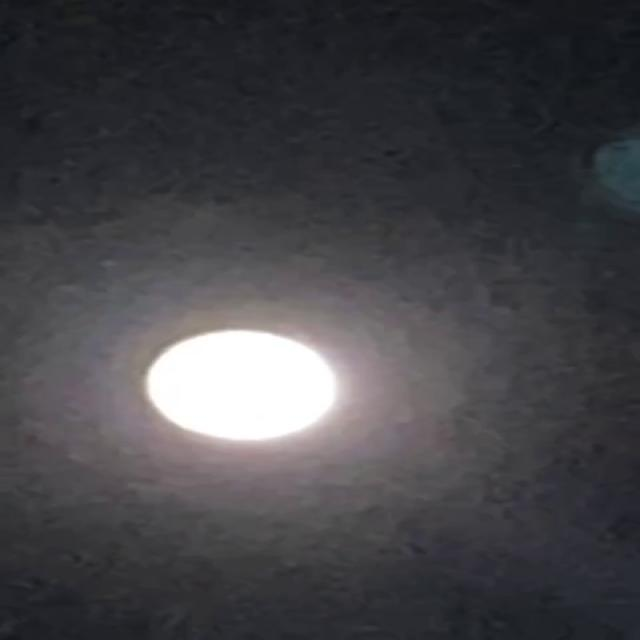moon: (131, 301, 354, 445)
